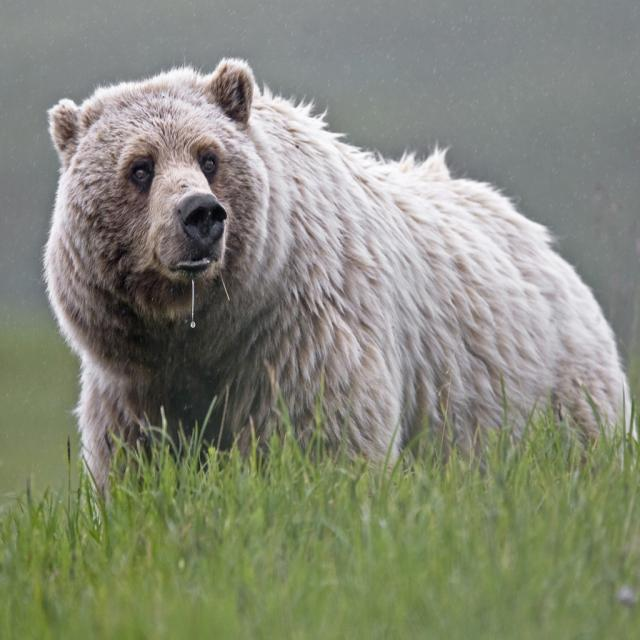Bear: (41, 57, 638, 525)
